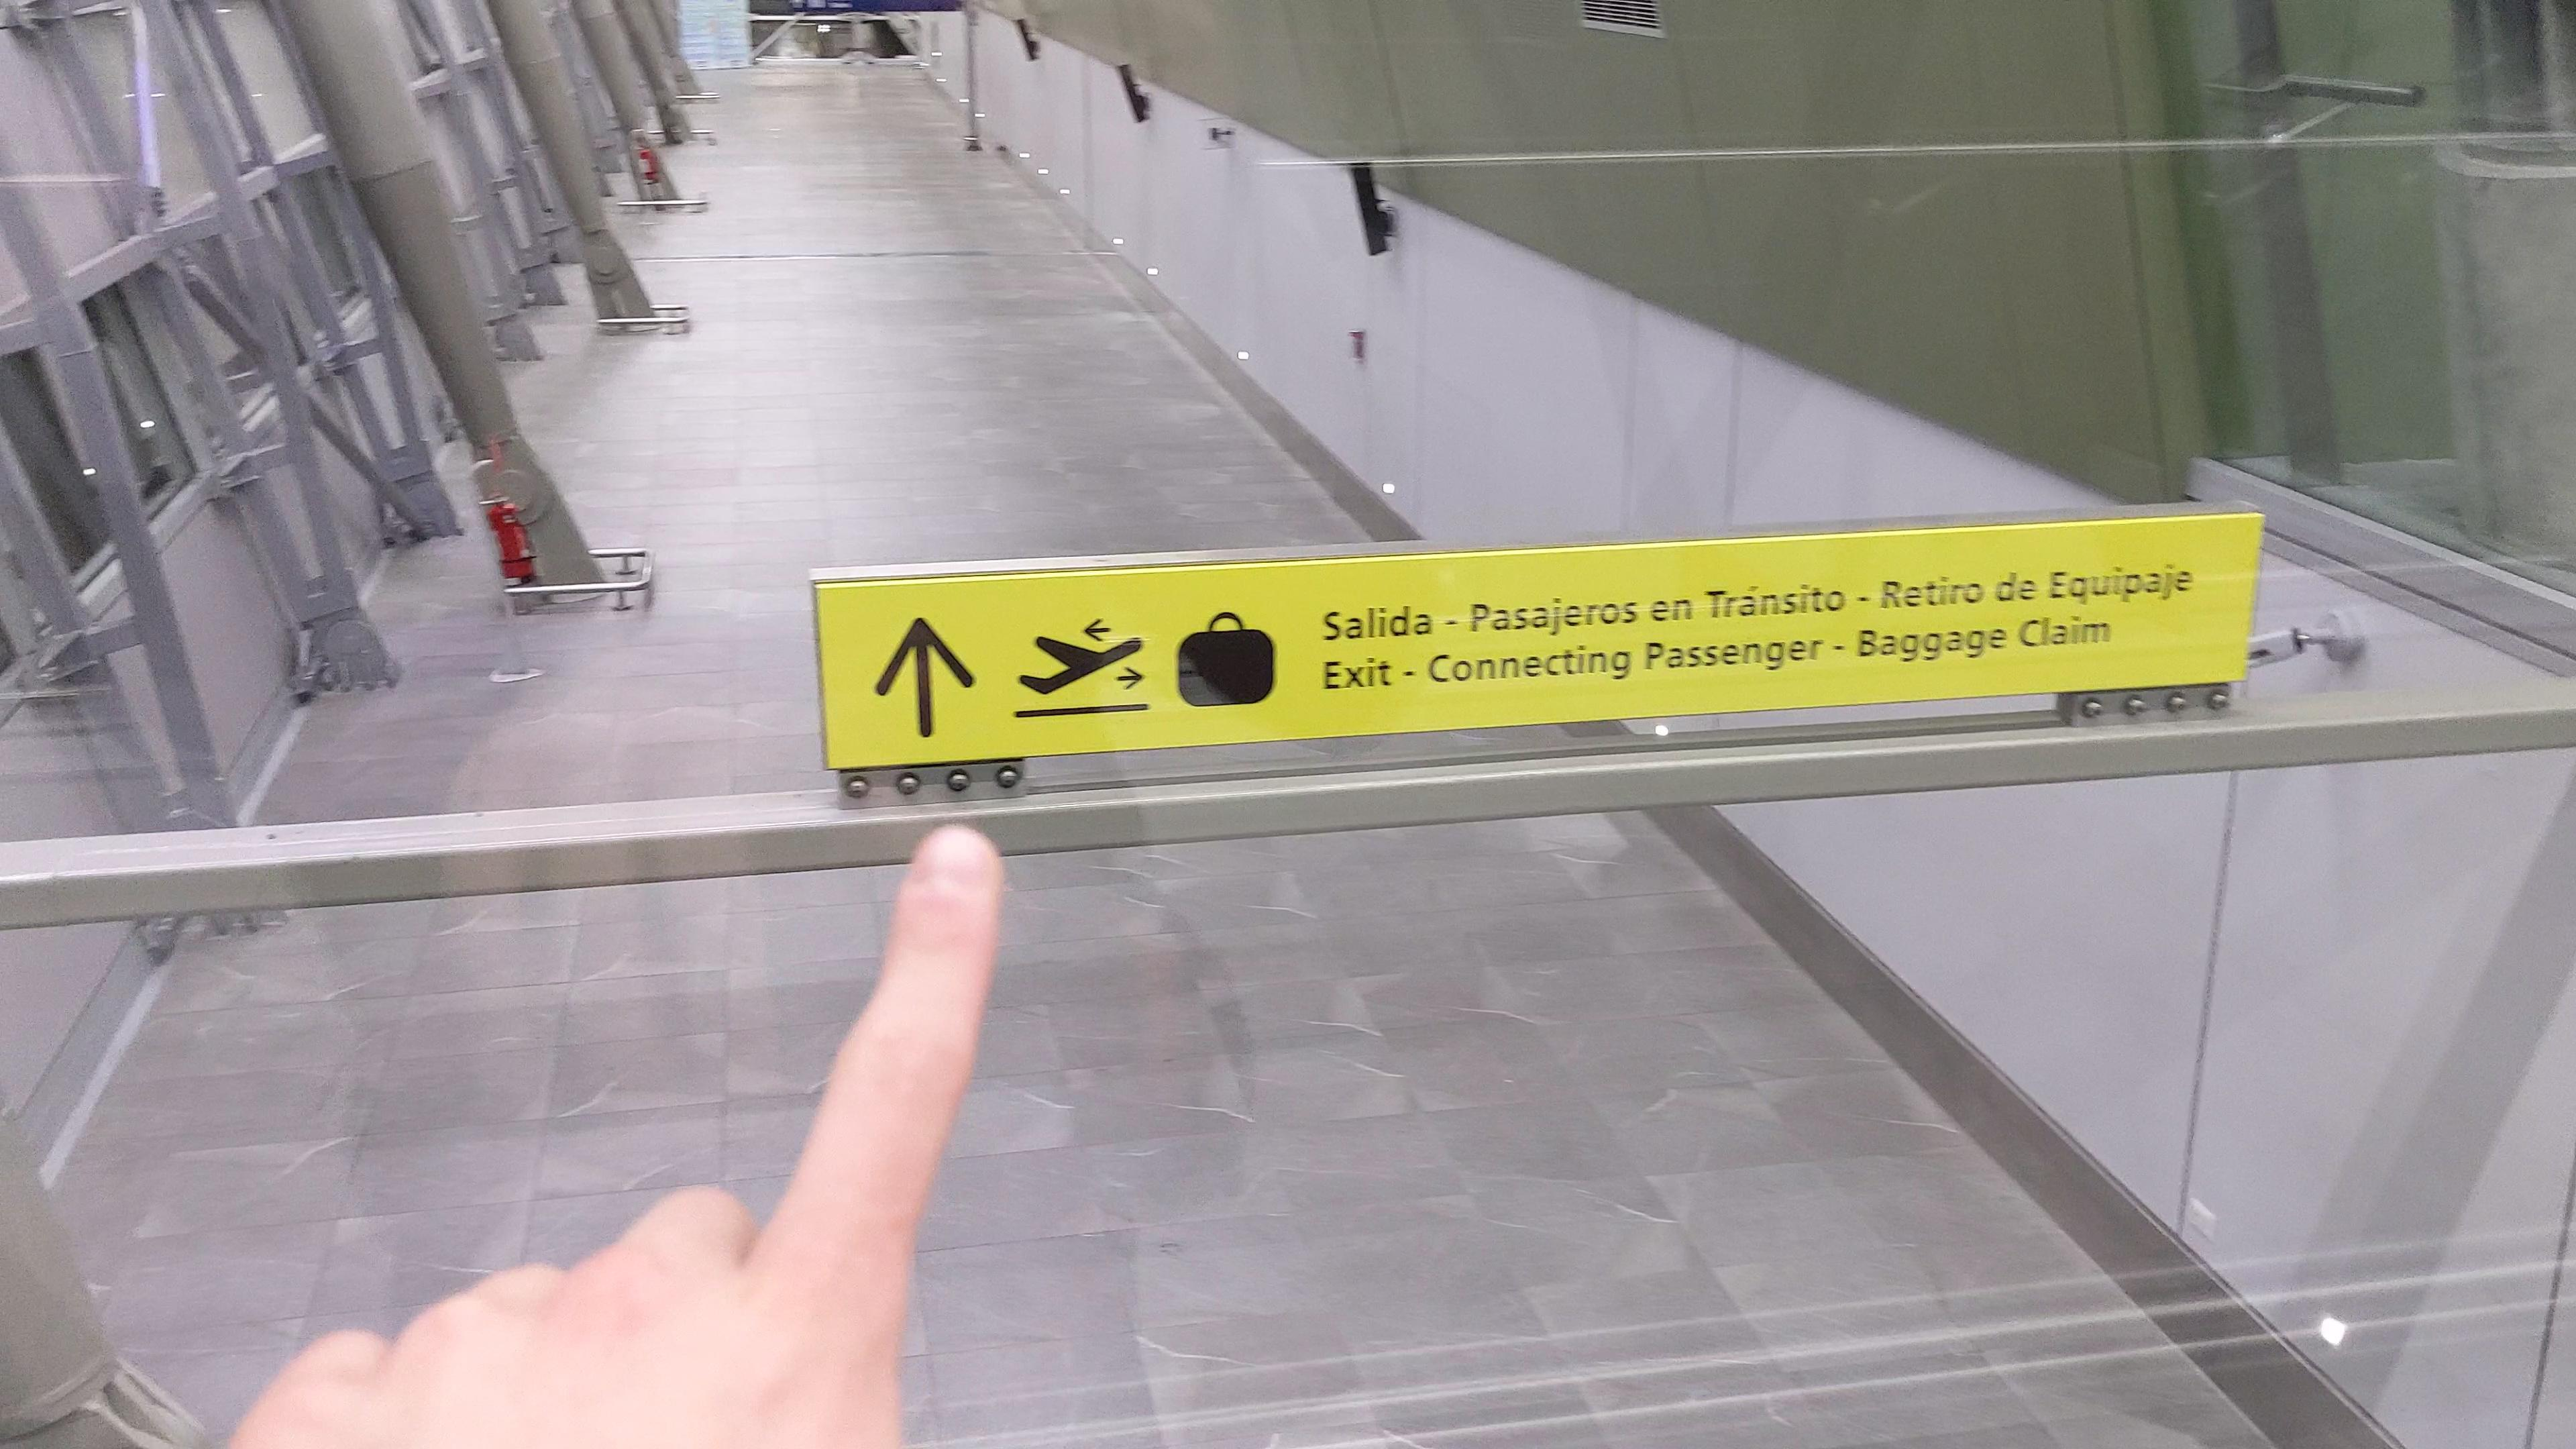airplane symbol: (1012, 616, 1152, 702)
baggage claim: (1173, 607, 1281, 713)
fire-extinguisher: (481, 492, 540, 582)
thin up arrow: (869, 612, 982, 743)
